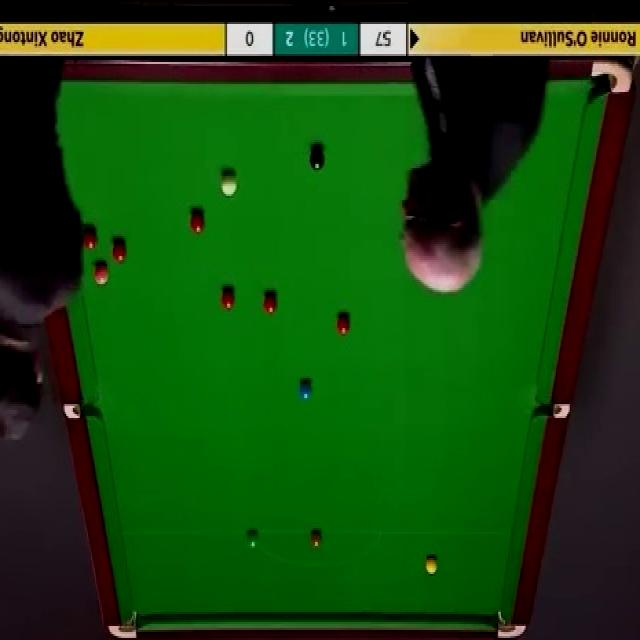black-ball: (308, 148, 324, 172)
blue-ball: (299, 378, 312, 404)
brown-ball: (309, 531, 323, 549)
green-ball: (245, 530, 260, 552)
pink-ball: (93, 263, 110, 287)
red-ball: (113, 239, 128, 265), (263, 290, 278, 316), (220, 286, 235, 311), (190, 212, 206, 234), (82, 227, 96, 251), (337, 316, 351, 337)
white-ball: (220, 168, 238, 198)
yellow-ball: (425, 555, 437, 574)
